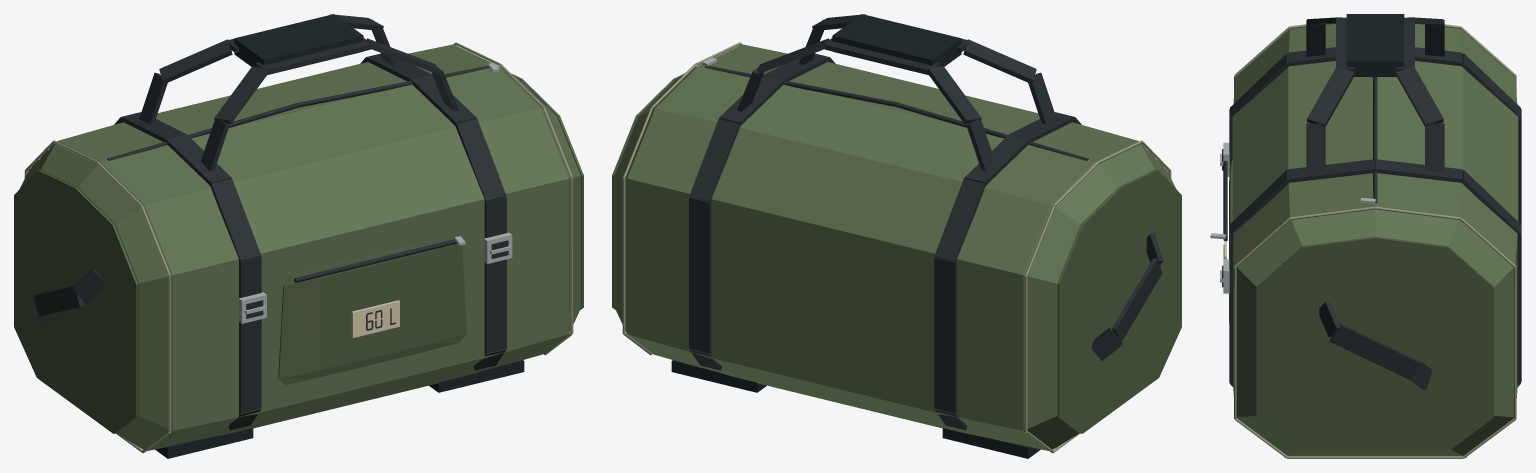
File: duffel-60l.glb
3 views of the same model, side by side, from view 1: azimuth 30°, elevation 25°; view 2: azimuth 150°, elevation 25°; view 3: azimuth 270°, elevation 25° (orthographic). The views are drawn at different scales.
Visible parts, largest first — view 1: Гранёный корпус 60 л, Чёрная стропа, Усиленные панели, Передний карман, Мягкие накладки, Швы, Фурнитура, Нашивка объёма; view 2: Гранёный корпус 60 л, Чёрная стропа, Усиленные панели, Мягкие накладки, Швы; view 3: Гранёный корпус 60 л, Усиленные панели, Чёрная стропа, Швы, Мягкие накладки, Фурнитура.
Part boxes in pixels (x1=…): Гранёный корпус 60 л: x1=20, y1=44, x2=580, y2=450; Чёрная стропа: x1=33, y1=14, x2=508, y2=430; Усиленные панели: x1=14, y1=73, x2=583, y2=433; Передний карман: x1=278, y1=235, x2=466, y2=384; Мягкие накладки: x1=155, y1=14, x2=524, y2=458; Швы: x1=24, y1=42, x2=573, y2=453; Фурнитура: x1=238, y1=62, x2=512, y2=323; Нашивка объёма: x1=351, y1=300, x2=399, y2=337; Гранёный корпус 60 л: x1=615, y1=44, x2=1175, y2=450; Чёрная стропа: x1=689, y1=14, x2=1163, y2=430; Усиленные панели: x1=612, y1=73, x2=1181, y2=433; Мягкие накладки: x1=671, y1=14, x2=1040, y2=458; Швы: x1=622, y1=42, x2=1171, y2=453; Гранёный корпус 60 л: x1=1232, y1=24, x2=1518, y2=455; Усиленные панели: x1=1256, y1=237, x2=1494, y2=450; Чёрная стропа: x1=1222, y1=17, x2=1521, y2=389; Швы: x1=1234, y1=24, x2=1516, y2=458; Мягкие накладки: x1=1284, y1=14, x2=1466, y2=457; Фурнитура: x1=1210, y1=142, x2=1375, y2=293.
Bounding box in the file's own units: 0.66 × 0.44 × 0.37.
